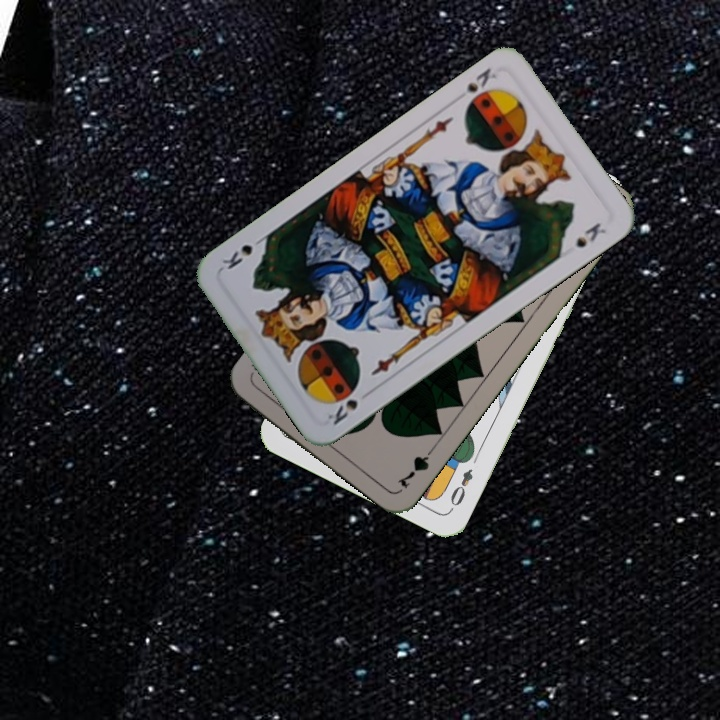EO: (446, 464, 476, 509)
G7: (393, 441, 439, 491)
SK: (321, 386, 375, 428), (461, 64, 499, 95)
